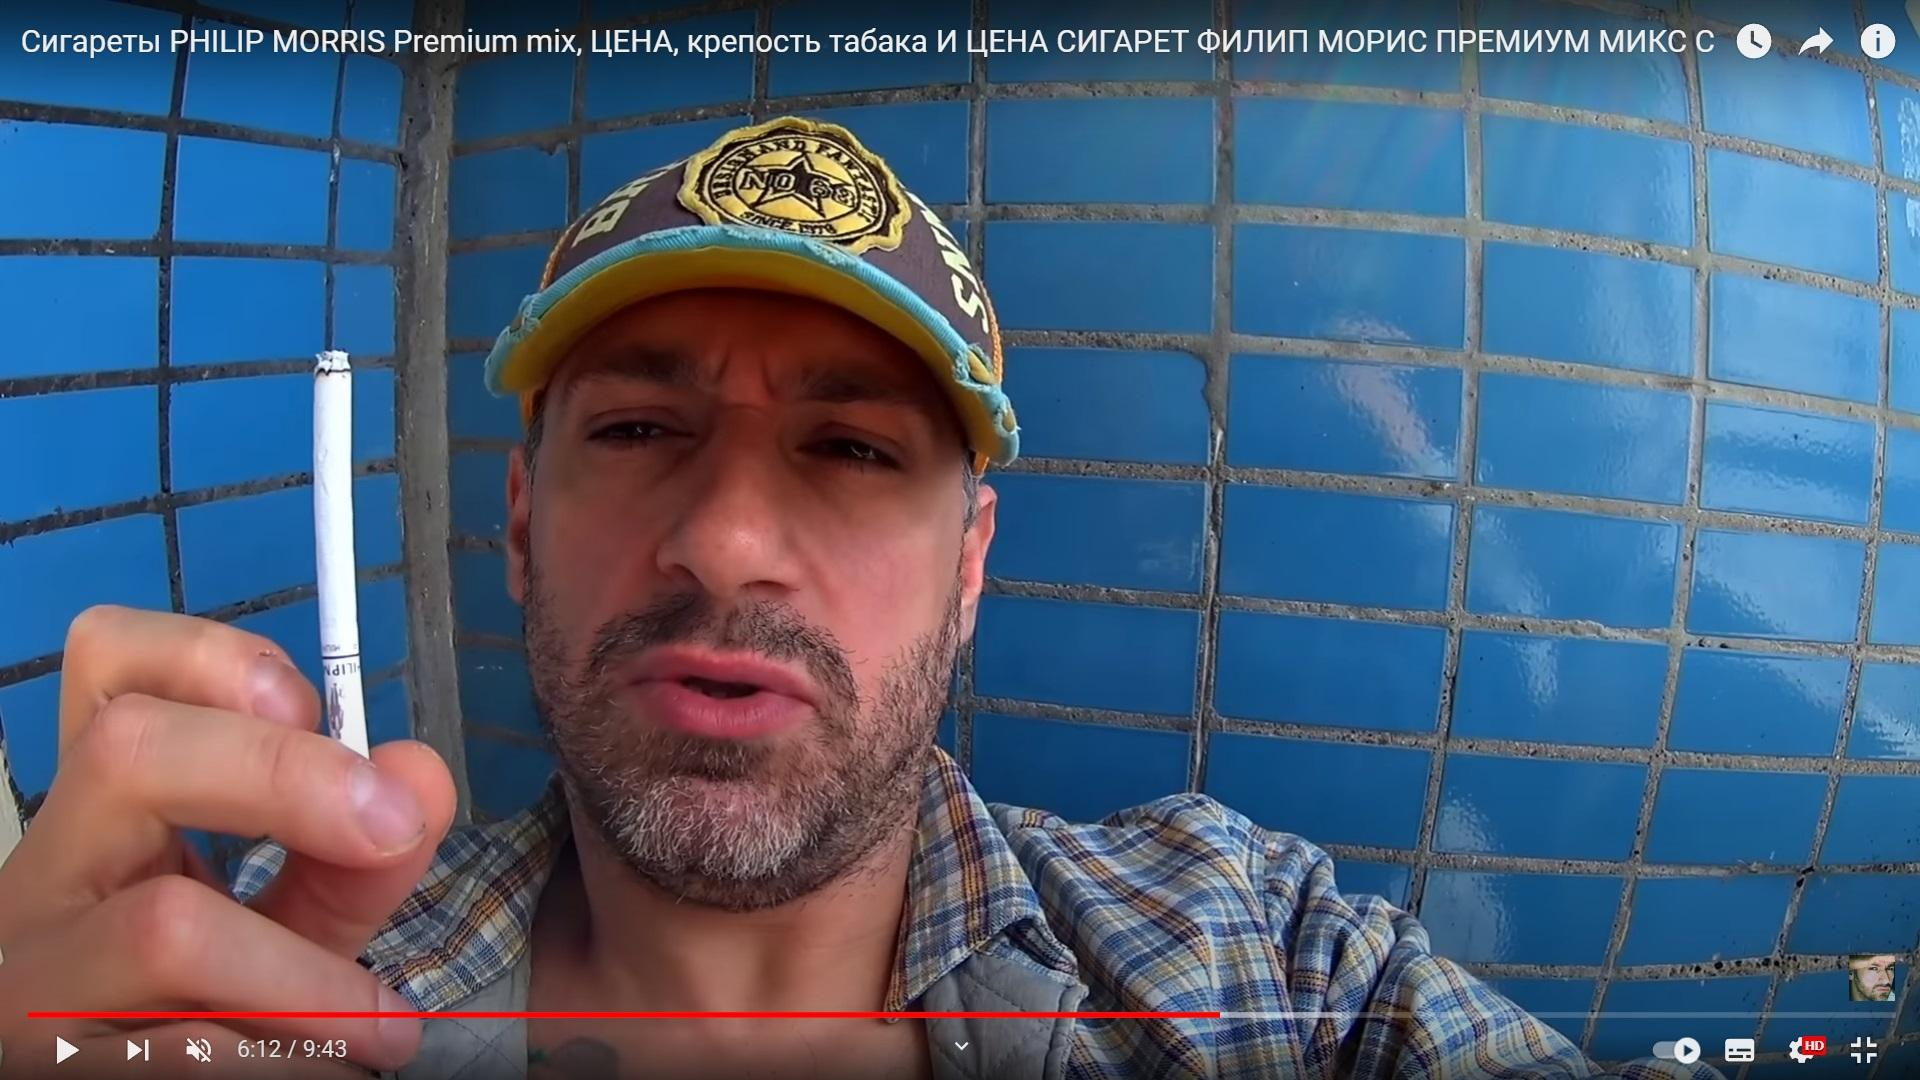cigarette: (311, 348, 371, 764)
